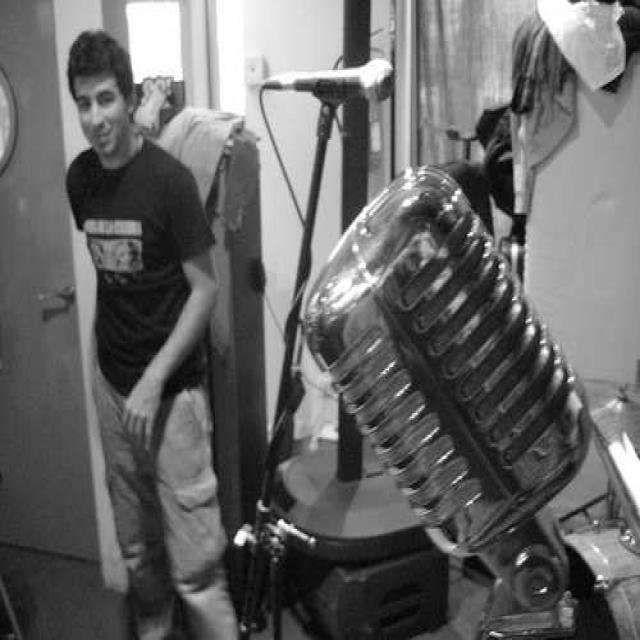microphone: (294, 154, 609, 557), (265, 60, 393, 104)
